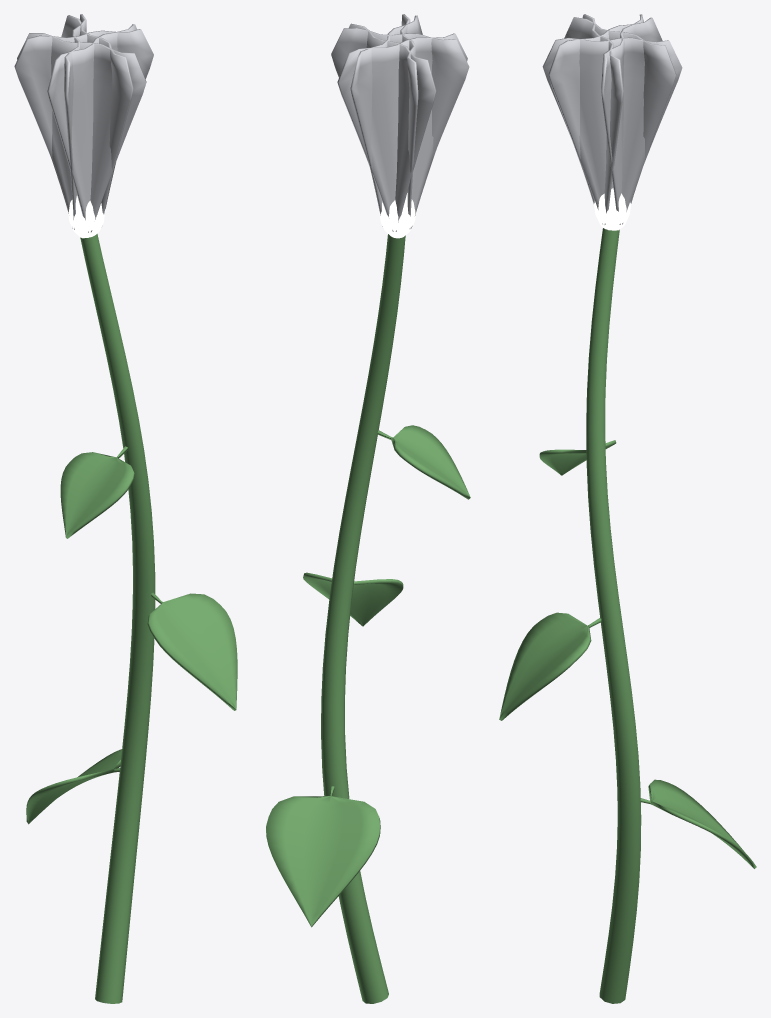
The model's file is Moonflower.fbx.
3 renders of one model, left to right at view 1: azimuth 30°, elevation 25°; view 2: azimuth 150°, elevation 25°; view 3: azimuth 270°, elevation 25°, orthographic.
Parts seen in each view (by area): view 1: Stem, Leaf_1, Petal_3, Petal_4, Leaf_2, Petal_1, Petal_0, Leaf_0, Petal_2, Glow; view 2: Stem, Leaf_0, Petal_2, Petal_4, Petal_1, Leaf_2, Petal_0, Leaf_1, Petal_3, Glow; view 3: Stem, Petal_0, Leaf_1, Petal_2, Petal_3, Leaf_0, Petal_1, Petal_4, Glow, Leaf_2.
Part boxes in pixels (x1=…): Stem: x1=80, y1=234, x2=155, y2=1003; Leaf_1: x1=147, y1=592, x2=237, y2=710; Petal_3: x1=17, y1=33, x2=146, y2=232; Petal_4: x1=47, y1=24, x2=136, y2=232; Leaf_2: x1=60, y1=446, x2=134, y2=538; Petal_1: x1=14, y1=29, x2=153, y2=158; Petal_0: x1=61, y1=15, x2=133, y2=214; Leaf_0: x1=26, y1=749, x2=121, y2=824; Petal_2: x1=64, y1=14, x2=86, y2=229; Glow: x1=68, y1=195, x2=105, y2=238; Stem: x1=321, y1=234, x2=405, y2=1003; Leaf_0: x1=266, y1=786, x2=380, y2=927; Petal_2: x1=337, y1=33, x2=467, y2=231; Petal_4: x1=331, y1=28, x2=469, y2=158; Petal_1: x1=349, y1=23, x2=436, y2=231; Leaf_2: x1=377, y1=425, x2=470, y2=499; Petal_0: x1=350, y1=15, x2=422, y2=226; Leaf_1: x1=303, y1=572, x2=403, y2=626; Petal_3: x1=400, y1=14, x2=418, y2=228; Glow: x1=379, y1=193, x2=415, y2=238; Stem: x1=586, y1=228, x2=641, y2=1003; Petal_0: x1=542, y1=37, x2=682, y2=224; Leaf_1: x1=499, y1=612, x2=601, y2=720; Petal_2: x1=564, y1=17, x2=676, y2=203; Petal_3: x1=548, y1=17, x2=662, y2=203; Leaf_0: x1=640, y1=779, x2=756, y2=868; Petal_1: x1=601, y1=14, x2=643, y2=224; Petal_4: x1=582, y1=14, x2=623, y2=224; Glow: x1=594, y1=188, x2=630, y2=230; Leaf_2: x1=539, y1=440, x2=616, y2=475.
Size of the model in its own units: 0.2323 by 1.24 by 0.3052.
